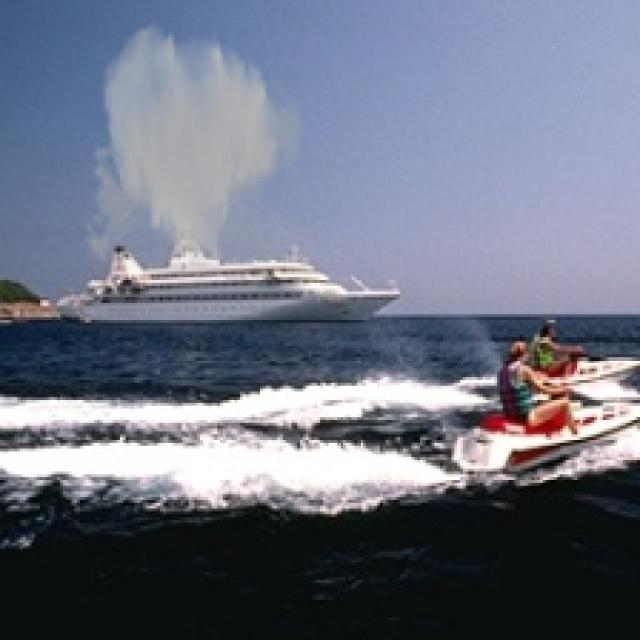Smoke: (77, 20, 312, 289)
